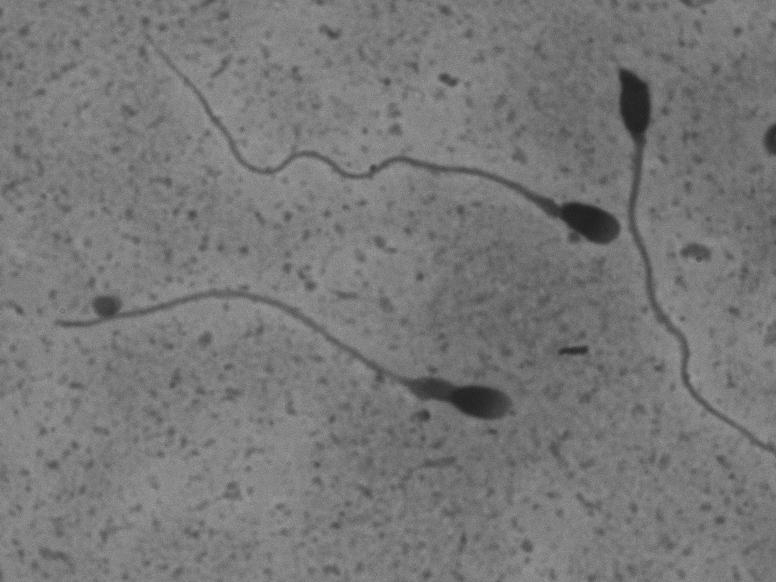Abnormal: (136, 26, 625, 272), (56, 276, 555, 440), (599, 52, 774, 457)
